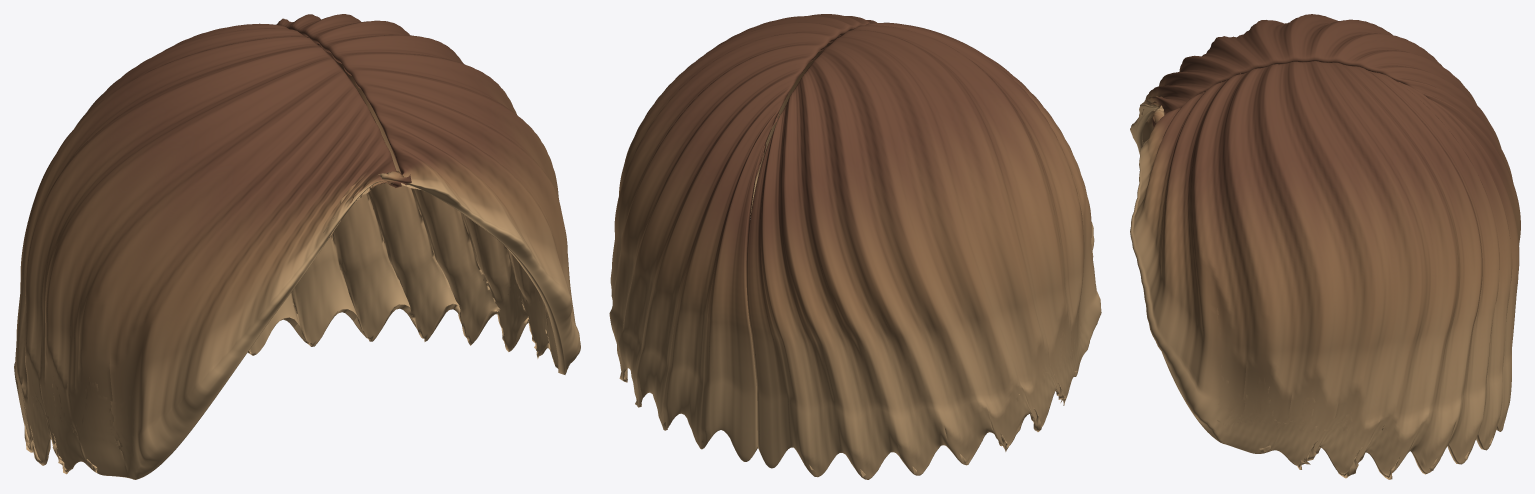
File: Ombre-f608a9380c9f253-hair.glb
3 views of the same model, side by side, from view 1: azimuth 30°, elevation 25°; view 2: azimuth 150°, elevation 25°; view 3: azimuth 270°, elevation 25° (orthographic). The views are drawn at different scales.
Parts seen in each view (by area): view 1: 226 hair / Hair252 / flowing sculpt flow.001; view 2: 226 hair / Hair252 / flowing sculpt flow.001; view 3: 226 hair / Hair252 / flowing sculpt flow.001.
Boxes of the visible parts, x1,y1,x2,y2 form: 226 hair / Hair252 / flowing sculpt flow.001: (14,14,580,479); 226 hair / Hair252 / flowing sculpt flow.001: (609,14,1101,479); 226 hair / Hair252 / flowing sculpt flow.001: (1130,14,1520,479).
Bounding box in the file's own units: 1.07 × 0.8596 × 0.8447.
1 material, 1 textured.
